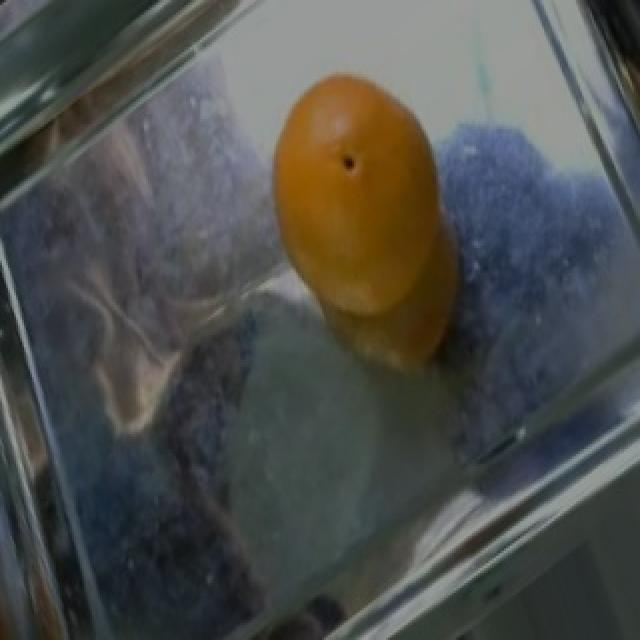Fruit: (242, 35, 478, 394)
